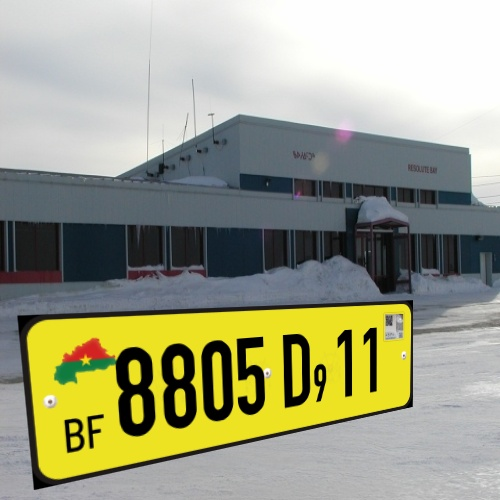plate: (8, 294, 424, 491)
